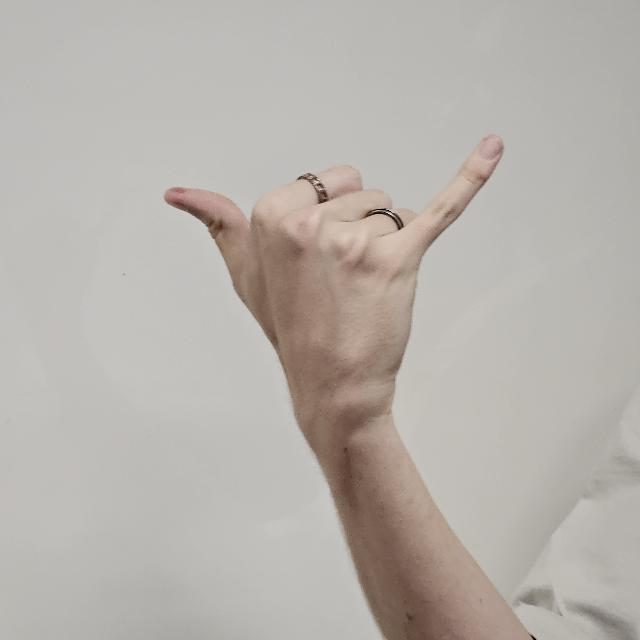Direita: (154, 127, 512, 413)
